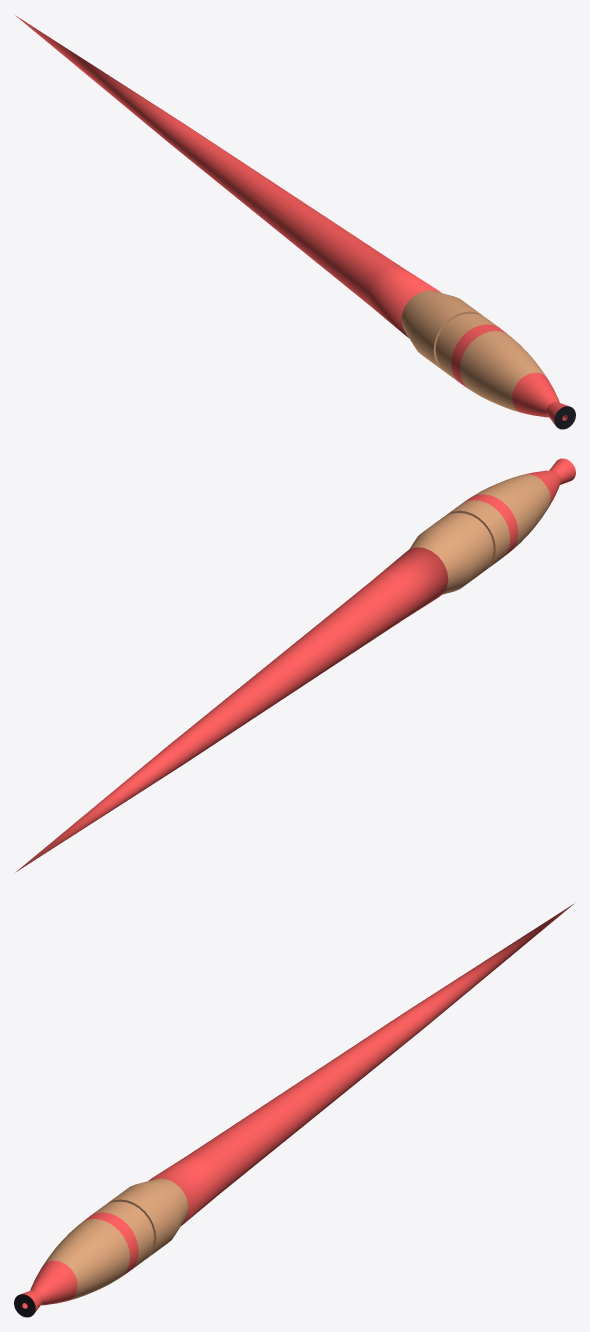
File: GravitySniper_Bolt_exp.fbx
The picture shows the model from 3 angles, top to bottom: view 1: azimuth 30°, elevation 25°; view 2: azimuth 150°, elevation 25°; view 3: azimuth 330°, elevation 25°; orthographic projection.
Parts seen in each view (by area): view 1: Bolt_Estela_Halo_Explosiva, Bolt_Bala_Explosiva; view 2: Bolt_Estela_Halo_Explosiva, Bolt_Bala_Explosiva; view 3: Bolt_Estela_Halo_Explosiva, Bolt_Bala_Explosiva.
Boxes of the visible parts, <box> form: Bolt_Estela_Halo_Explosiva: <box>15,15,441,337</box>; Bolt_Bala_Explosiva: <box>401,290,575,429</box>; Bolt_Estela_Halo_Explosiva: <box>15,547,448,872</box>; Bolt_Bala_Explosiva: <box>410,458,575,594</box>; Bolt_Estela_Halo_Explosiva: <box>148,903,574,1225</box>; Bolt_Bala_Explosiva: <box>14,1178,188,1317</box>.
Size of the model in its own units: 2.9 by 2.9 by 46.79.
